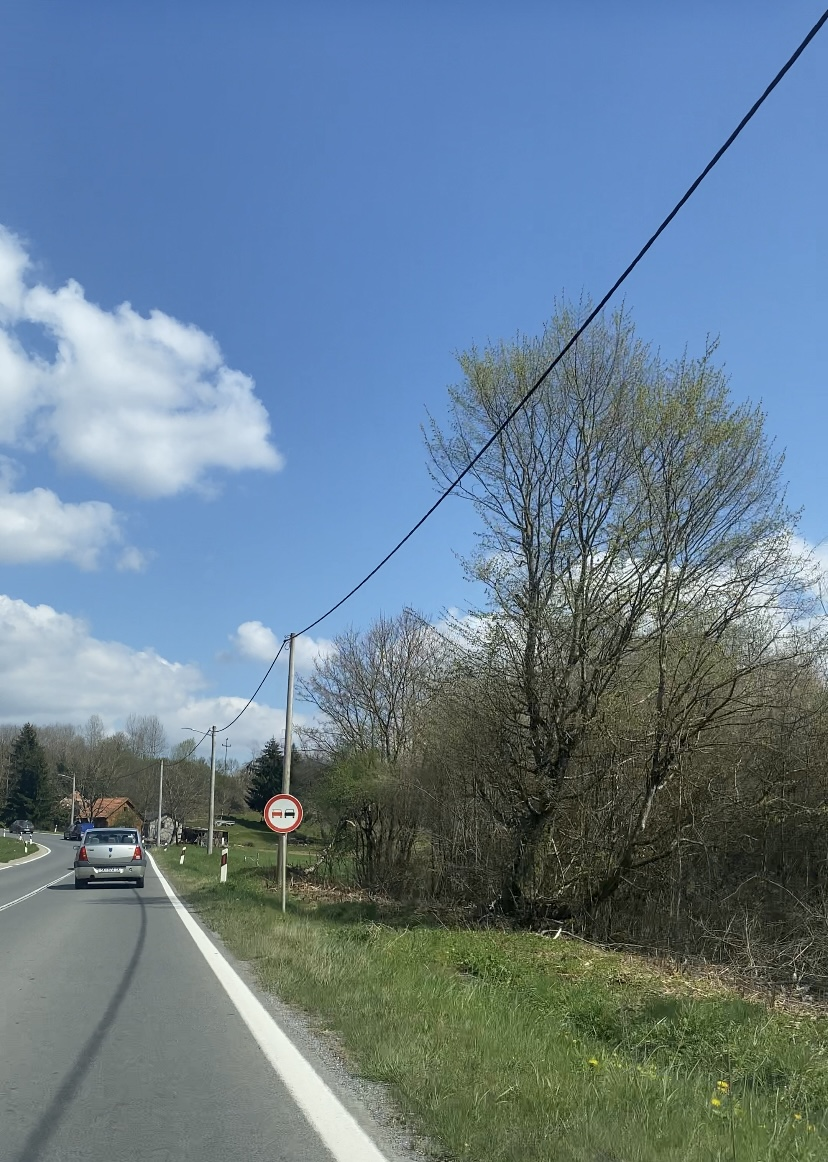Zabrana pretjecanja: (264, 794, 303, 833)
